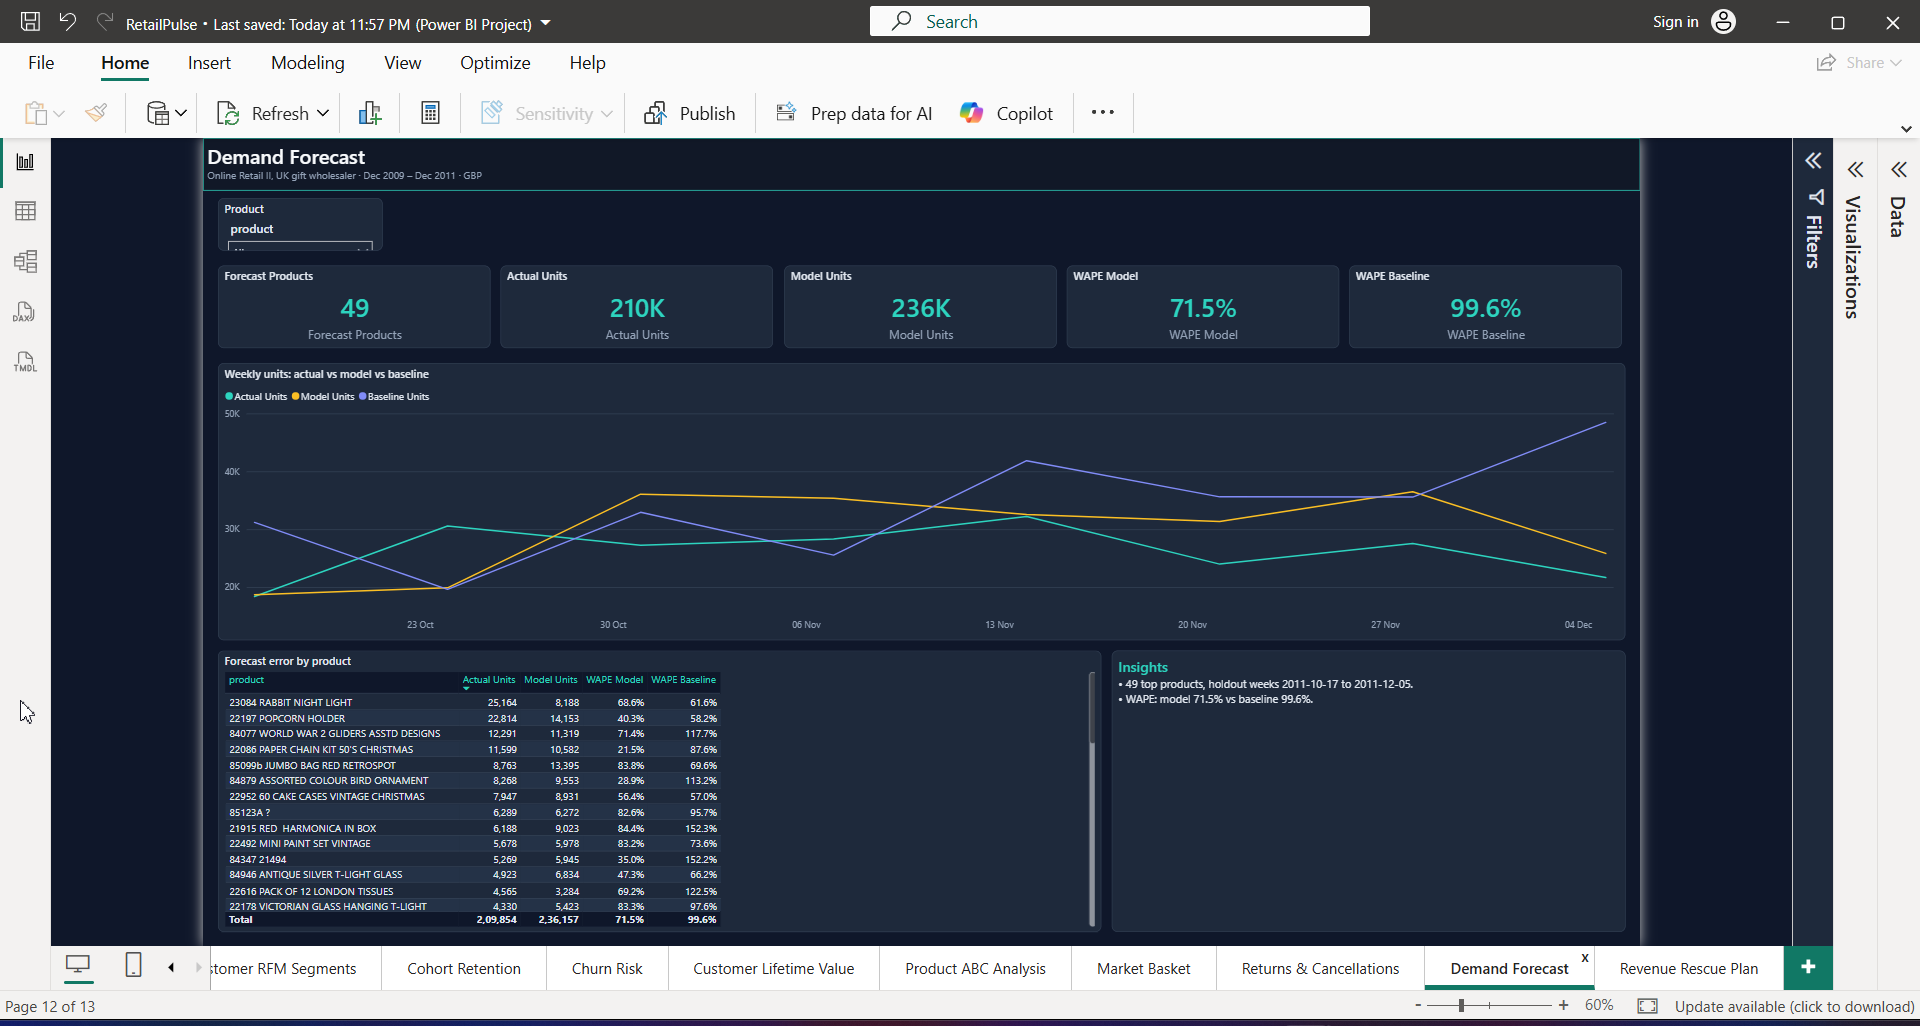

The dashboard page shown, as its layout file describes it:
{"tool":"powerbi","page":{"name":"Demand Forecast","canvas":[1920,1080],"ordinal":11},"visuals":[{"type":"textbox","box":[0,0,1920,70],"z":0},{"type":"slicer","title":"Product","fields":{"Values":["dim_product.product"]},"box":[20,80,220,70],"z":1000},{"type":"card","title":"Forecast Products","fields":{"Values":["_Measures.Forecast Products"]},"box":[20,170,364,110],"z":2000},{"type":"card","title":"Actual Units","fields":{"Values":["_Measures.Actual Units"]},"box":[398,170,364,110],"z":3000},{"type":"card","title":"Model Units","fields":{"Values":["_Measures.Model Units"]},"box":[776,170,364,110],"z":4000},{"type":"card","title":"WAPE Model","fields":{"Values":["_Measures.WAPE Model"]},"box":[1154,170,364,110],"z":5000},{"type":"card","title":"WAPE Baseline","fields":{"Values":["_Measures.WAPE Baseline"]},"box":[1532,170,364,110],"z":6000},{"type":"lineChart","title":"Weekly units: actual vs model vs baseline","fields":{"Category":["forecast.week_start"],"Y":["_Measures.Actual Units","_Measures.Model Units","_Measures.Baseline Units"]},"box":[20,300,1880,370],"z":7000},{"type":"tableEx","title":"Forecast error by product","fields":{"Values":["dim_product.product","_Measures.Actual Units","_Measures.Model Units","_Measures.WAPE Model","_Measures.WAPE Baseline"]},"box":[20,684,1180,376],"z":8000},{"type":"textbox","box":[1214,684,686,376],"z":9000}]}

Visuals, with their boxes on the page's 1920x1080 design canvas (x1, y1, x2, y2). These are canvas units, not pixel positions in the 1920x1026 screenshot, which may show the page scaled, cropped or inside an application window:
textbox: left=0, top=0, right=1920, bottom=70
"Product" slicer: left=20, top=80, right=240, bottom=150
"Forecast Products" card: left=20, top=170, right=384, bottom=280
"Actual Units" card: left=398, top=170, right=762, bottom=280
"Model Units" card: left=776, top=170, right=1140, bottom=280
"WAPE Model" card: left=1154, top=170, right=1518, bottom=280
"WAPE Baseline" card: left=1532, top=170, right=1896, bottom=280
"Weekly units: actual vs model vs baseline" lineChart: left=20, top=300, right=1900, bottom=670
"Forecast error by product" tableEx: left=20, top=684, right=1200, bottom=1060
textbox: left=1214, top=684, right=1900, bottom=1060
